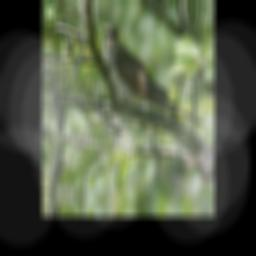Cuckoo: (101, 22, 209, 130)
